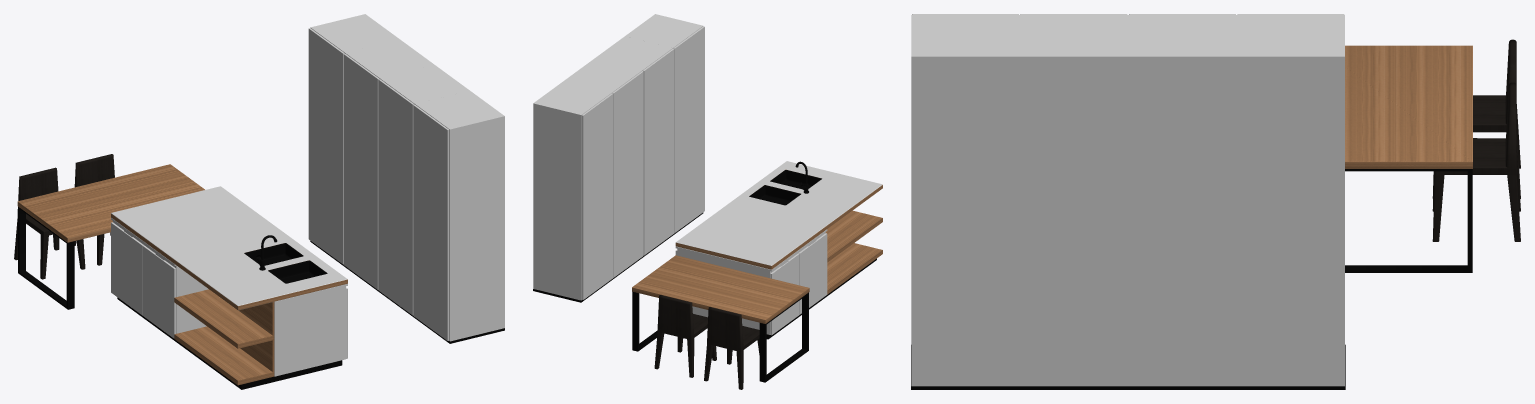
The model's file is cgaxis_models_86_20_fbx.fbx.
3 views of the same model, side by side, from view 1: azimuth 30°, elevation 25°; view 2: azimuth 150°, elevation 25°; view 3: azimuth 270°, elevation 25° (orthographic). The views are drawn at different scales.
Visible parts, largest first — view 1: cgaxis_models_86_20_02_16, cgaxis_models_86_20_02_1, cgaxis_models_86_20_02_12, cgaxis_models_86_20_02_13, cgaxis_models_86_20_02_14, cgaxis_models_86_20_02_15, cgaxis_models_86_20_01_1, cgaxis_models_86_20_02_7, cgaxis_models_86_20_01_3, cgaxis_models_86_20_01_4, cgaxis_models_86_20_02_3, cgaxis_models_86_20_02_2 (+13 smaller); view 2: cgaxis_models_86_20_02_19, cgaxis_models_86_20_02_1, cgaxis_models_86_20_01_1, cgaxis_models_86_20_02_15, cgaxis_models_86_20_02_13, cgaxis_models_86_20_02_12, cgaxis_models_86_20_02_14, cgaxis_models_86_20_04_2, cgaxis_models_86_20_04_1, cgaxis_models_86_20_02_3, cgaxis_models_86_20_02_16, cgaxis_models_86_20_02_17 (+11 smaller); view 3: cgaxis_models_86_20_02_17, cgaxis_models_86_20_02_16, cgaxis_models_86_20_02_18, cgaxis_models_86_20_02_19, cgaxis_models_86_20_01_1, cgaxis_models_86_20_04_2, cgaxis_models_86_20_04_1, cgaxis_models_86_20_03_4, cgaxis_models_86_20_03_3.
Boxes of the visible parts, <box> form: cgaxis_models_86_20_02_16: <box>415,90,504,341</box>; cgaxis_models_86_20_02_1: <box>111,186,347,310</box>; cgaxis_models_86_20_02_12: <box>413,104,449,340</box>; cgaxis_models_86_20_02_13: <box>378,79,414,315</box>; cgaxis_models_86_20_02_14: <box>343,53,379,289</box>; cgaxis_models_86_20_02_15: <box>308,28,344,264</box>; cgaxis_models_86_20_01_1: <box>17,164,204,242</box>; cgaxis_models_86_20_02_7: <box>274,284,347,376</box>; cgaxis_models_86_20_01_3: <box>174,289,274,348</box>; cgaxis_models_86_20_01_4: <box>174,326,274,385</box>; cgaxis_models_86_20_02_3: <box>142,245,175,338</box>; cgaxis_models_86_20_02_2: <box>111,222,143,315</box>; cgaxis_models_86_20_02_19: <box>533,81,611,300</box>; cgaxis_models_86_20_02_1: <box>676,161,882,269</box>; cgaxis_models_86_20_01_1: <box>632,255,809,323</box>; cgaxis_models_86_20_02_15: <box>581,93,613,299</box>; cgaxis_models_86_20_02_13: <box>643,48,674,255</box>; cgaxis_models_86_20_02_12: <box>673,26,704,233</box>; cgaxis_models_86_20_02_14: <box>612,71,643,277</box>; cgaxis_models_86_20_04_2: <box>654,295,716,377</box>; cgaxis_models_86_20_04_1: <box>704,307,759,389</box>; cgaxis_models_86_20_02_3: <box>798,233,827,314</box>; cgaxis_models_86_20_02_16: <box>625,14,702,48</box>; cgaxis_models_86_20_02_17: <box>594,36,672,70</box>; cgaxis_models_86_20_02_17: <box>1019,15,1128,386</box>; cgaxis_models_86_20_02_16: <box>911,15,1019,386</box>; cgaxis_models_86_20_02_18: <box>1128,15,1236,386</box>; cgaxis_models_86_20_02_19: <box>1236,15,1344,386</box>; cgaxis_models_86_20_01_1: <box>1345,45,1472,168</box>; cgaxis_models_86_20_04_2: <box>1432,82,1520,241</box>; cgaxis_models_86_20_04_1: <box>1432,39,1520,198</box>; cgaxis_models_86_20_03_4: <box>1345,169,1472,272</box>; cgaxis_models_86_20_03_3: <box>911,344,1345,389</box>.
Bounding box in the file's own units: 132 × 88.04 × 146.
Materials: 6 (2 with a texture image).
